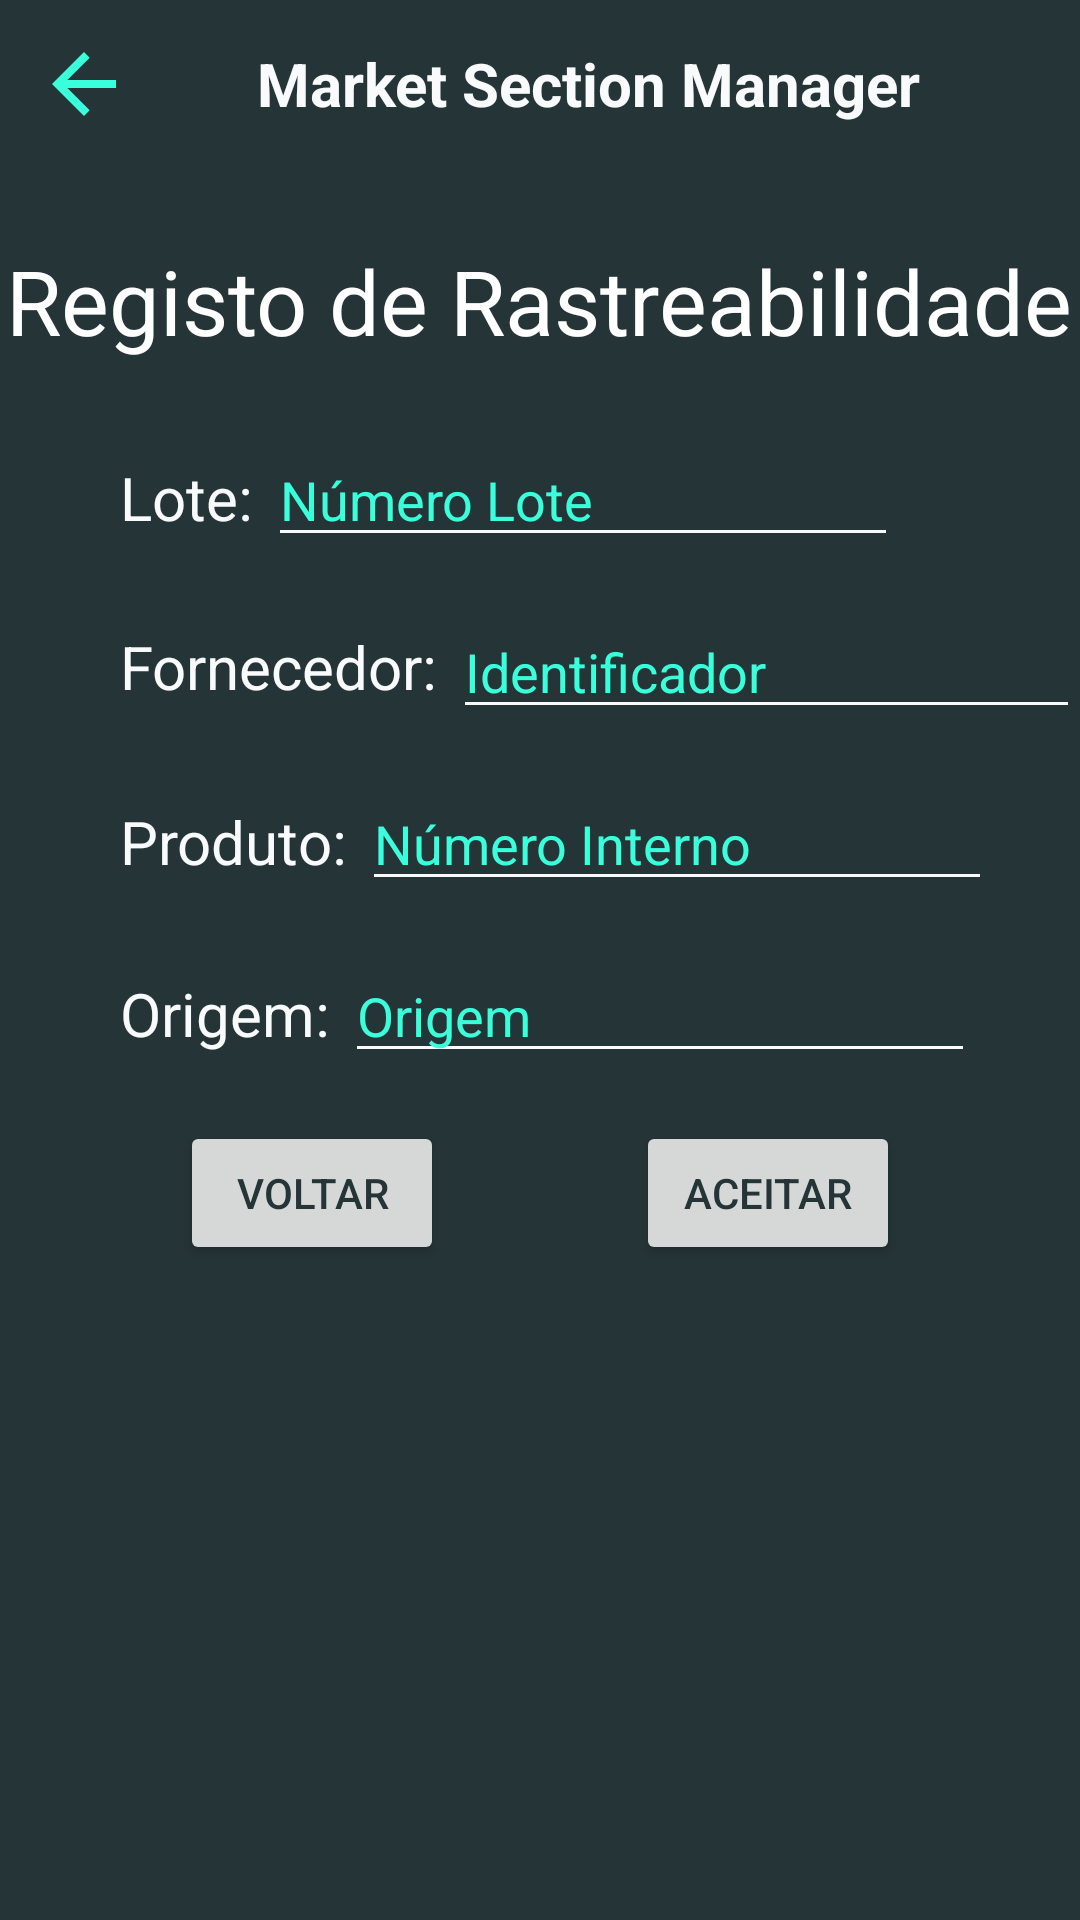

Screen size 1080px×1920px. Icon name, then its box in pixels as {"left": x1, "top": y1, "right": x2, "bottom": y2}:
arrow back: {"left": 52, "top": 52, "right": 116, "bottom": 116}
